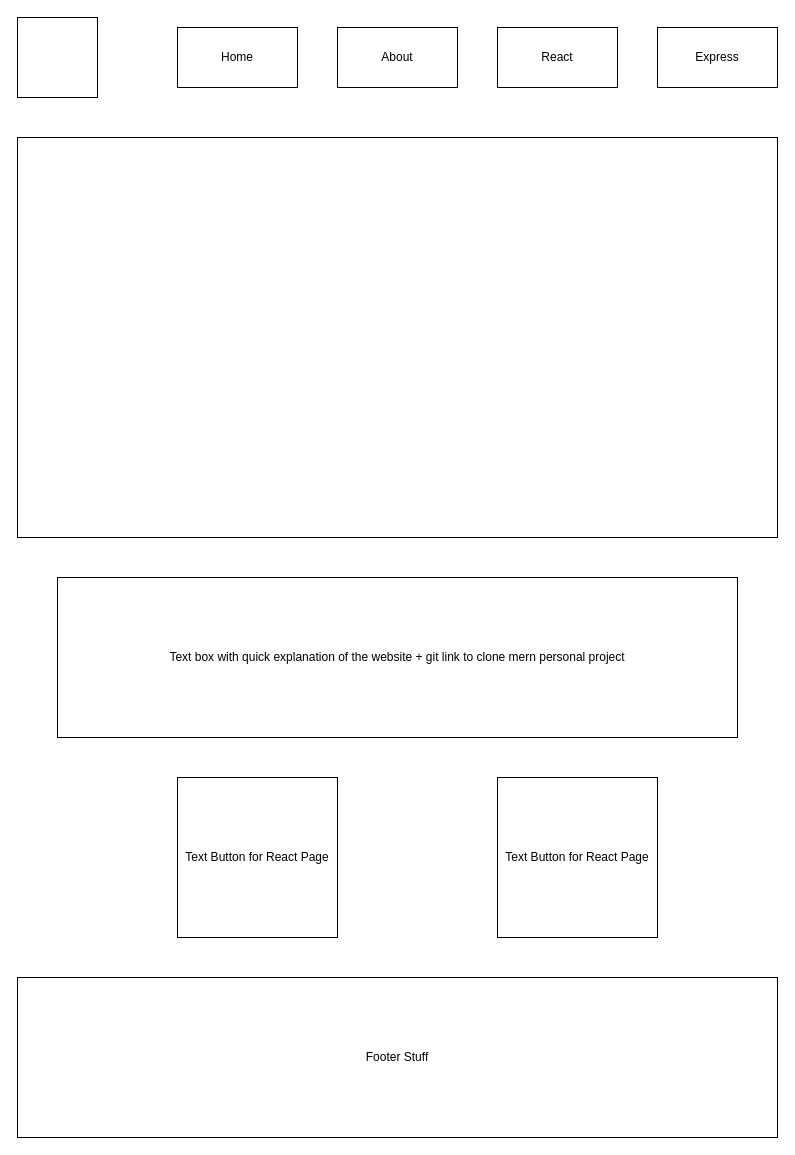
Image size: 795x1155. Some labels were removed from this diagram. The box of each missing label's shape, as (x1, y1, x2, y2) in pixels:
Image related to MERN: (16, 136, 778, 538)
Logo: (16, 16, 98, 98)
